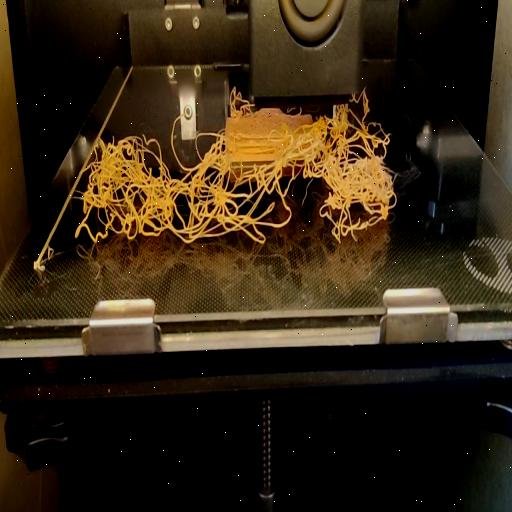spaghetti: (74, 94, 396, 242)
